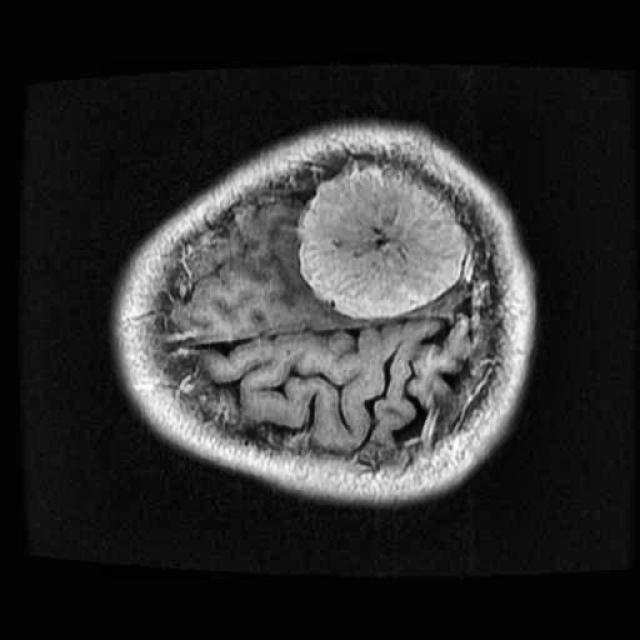Tumor: (281, 148, 482, 333)
